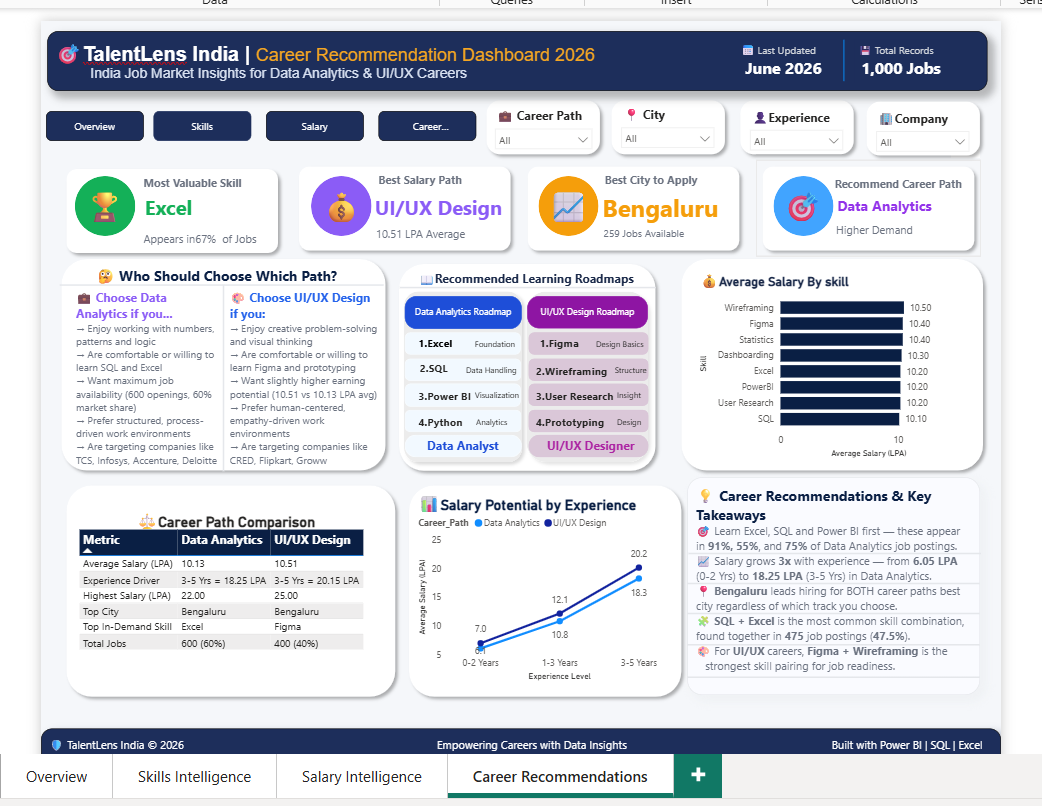

The dashboard page shown, as its layout file describes it:
{"tool":"powerbi","page":{"name":"Career Recommendations","canvas":[1280,1000],"ordinal":3},"visuals":[{"type":"textbox","box":[7.5,12.5,1253.8,80],"z":0,"group":"g7"},{"type":"actionButton","box":[7,120,130,40],"z":0},{"type":"shape","box":[335,185,300,130],"z":0,"group":"g10"},{"type":"shape","box":[952.5,185,300,130],"z":0,"group":"g11"},{"type":"shape","box":[640,185.6,300,130],"z":0,"group":"g12"},{"type":"shape","box":[25.3,188.1,300,130],"z":0,"group":"g13"},{"type":"actionButton","box":[150,120,130,40],"z":1000},{"type":"actionButton","box":[300,120,130,40],"z":2000},{"type":"group","id":"g1","title":"Group 2","box":[585,96,169,90],"z":3000},{"type":"shape","box":[1013.1,24.7,114.3,55.6],"z":4000,"group":"g7"},{"type":"group","id":"g2","title":"Group 3","box":[751.1,95.9,169.2,90],"z":4000},{"type":"textbox","box":[445,196.2,152.5,37.5],"z":4000,"group":"g10"},{"type":"textbox","box":[746.9,197.8,173.3,35.6],"z":4000,"group":"g12"},{"type":"textbox","box":[132,199,169,31],"z":4000,"group":"g13"},{"type":"textbox","box":[1053,202.3,187.3,30.9],"z":4000,"group":"g11"},{"type":"textbox","box":[928.2,24.7,132.8,57.8],"z":5000,"group":"g7"},{"type":"group","id":"g3","title":"Group 4","box":[924,96,169,90],"z":5000},{"type":"textbox","box":[1084.9,24.7,125.2,57.8],"z":6000,"group":"g7"},{"type":"group","id":"g4","title":"Group 6","box":[25.3,188.1,300,130],"z":6000},{"type":"group","id":"g5","title":"Group 6","box":[335,185,300,130],"z":7000},{"type":"group","id":"g6","title":"Group 6","box":[640,185.6,300,130],"z":8000},{"type":"textbox","box":[0,942.5,1280,47.5],"z":9000},{"type":"group","id":"g7","title":"Group 10","box":[7.5,12.5,1253.8,80],"z":10000},{"type":"textbox","box":[133.6,225.5,111.8,50],"z":11000},{"type":"textbox","box":[743,221,190,54],"z":12000},{"type":"shape","box":[585,96,169.2,90],"z":13000,"group":"g1"},{"type":"shape","box":[17.7,308.3,450,300],"z":13000},{"type":"slicer","title":"Career Path","fields":{"Values":["talentlens_1000.Career_Path"]},"box":[595.4,109.9,150,65.6],"z":14000,"group":"g1"},{"type":"shape","box":[467.9,315,360,293.6],"z":14000},{"type":"shape","box":[751.1,95.9,169.2,90],"z":15000,"group":"g2"},{"type":"shape","box":[845,307.5,420,300],"z":15000},{"type":"slicer","title":"Career Path","fields":{"Values":["talentlens_1000.Location"]},"box":[763.4,107.8,144.4,65.6],"z":16000,"group":"g2"},{"type":"group","id":"g8","title":"Group 6","box":[952.5,185,300,130],"z":16000},{"type":"shape","box":[924,96,169.2,90],"z":17000,"group":"g3"},{"type":"group","id":"g9","title":"Group 4","box":[1091.7,98.3,169.2,90],"z":17000},{"type":"shape","box":[1091.7,98.3,169.2,90],"z":17000,"group":"g9"},{"type":"textbox","box":[1054.4,263.8,186.2,31.2],"z":17001,"group":"g11"},{"type":"textbox","box":[744.5,269.6,187.3,34.5],"z":17001,"group":"g12"},{"type":"textbox","box":[131.4,275.6,173.1,30],"z":17001,"group":"g13"},{"type":"slicer","title":"Career Path","fields":{"Values":["talentlens_1000.Experience"]},"box":[936.2,110.8,144.4,65.6],"z":18000,"group":"g3"},{"type":"slicer","title":"Career Path","fields":{"Values":["talentlens_1000.Company"]},"box":[1103.9,113.1,144.4,65.6],"z":18000,"group":"g9"},{"type":"textbox","box":[1056.4,229.1,172.7,39.1],"z":18000},{"type":"clusteredBarChart","title":"💰Average Salary By skill","fields":{"Category":["SkillSalary.Skill"],"Y":["Avg(SkillSalary.Avg_Salary)"]},"box":[872.5,333.8,360,253.8],"z":19000},{"type":"textbox","box":[1047.3,224.8,196.2,46.2],"z":19001,"group":"g8"},{"type":"textbox","box":[862,608.7,390.7,290],"z":20000},{"type":"shape","box":[481.7,610.6,381.1,300],"z":21000},{"type":"group","id":"g10","title":"Group 7","box":[335,185,300,130],"z":21001,"group":"g5"},{"type":"group","id":"g11","title":"Group 7","box":[952.5,185,300,130],"z":21001,"group":"g8"},{"type":"group","id":"g12","title":"Group 7","box":[640,185.6,300,130],"z":21001,"group":"g6"},{"type":"group","id":"g13","title":"Group 7","box":[25.3,188.1,300,130],"z":21001,"group":"g4"},{"type":"actionButton","box":[450,120,130,40],"z":22000},{"type":"shape","box":[360,206.4,80.9,80],"z":23000},{"type":"shape","box":[662.7,206.4,80,80],"z":24000},{"type":"shape","box":[44.5,206.4,80.9,80],"z":25000},{"type":"shape","box":[976.4,206.4,80,80],"z":26000},{"type":"shape","box":[475.5,350.9,175.5,245.5],"z":27000},{"type":"shape","box":[639.1,350.9,180,245.5],"z":28000},{"type":"textbox","box":[485.2,366.1,156.1,43.9],"z":29000},{"type":"shape","box":[485.2,415.2,154.8,30],"z":30000},{"type":"shape","box":[485.2,450,155.2,30],"z":31000},{"type":"shape","box":[485.2,483.7,154.8,31.1],"z":32000},{"type":"shape","box":[485.2,518.9,155.6,30],"z":33000},{"type":"shape","box":[485,551.2,156.2,30],"z":34000},{"type":"textbox","box":[498.8,415,71.2,28.8],"z":35000},{"type":"textbox","box":[573.9,415,73.3,29.4],"z":36000},{"type":"textbox","box":[500,448.8,56.2,31.2],"z":37000},{"type":"textbox","box":[498.1,485.2,82.6,29.3],"z":38000},{"type":"textbox","box":[498.1,520.4,75.6,30.4],"z":39000},{"type":"textbox","box":[562.2,449.4,85,31.1],"z":40000},{"type":"textbox","box":[572.6,484.1,84.1,31.1],"z":41000},{"type":"textbox","box":[574.8,520.4,59.6,28.1],"z":42000},{"type":"textbox","box":[500,549.4,125,33.1],"z":43000},{"type":"shape","box":[649.4,414.4,160,30],"z":44000},{"type":"shape","box":[649.4,450,160,30],"z":45000},{"type":"shape","box":[649.4,483.8,160,30],"z":46000},{"type":"shape","box":[649.4,518.8,160,30],"z":47000},{"type":"shape","box":[649.4,551.2,160,30],"z":48000},{"type":"textbox","box":[647.8,366.7,161.1,43.3],"z":49000},{"type":"textbox","box":[655.2,485.2,130,28.5],"z":50000},{"type":"textbox","box":[655.2,519.6,114.8,28.9],"z":51000},{"type":"textbox","box":[657.5,550,149.4,39.4],"z":52000},{"type":"textbox","box":[655.2,451.1,114.8,28.9],"z":53000},{"type":"textbox","box":[659.6,415.2,66.3,28.5],"z":54000},{"type":"textbox","box":[735.5,415.5,78,29.5],"z":55000},{"type":"textbox","box":[471.8,327.3,350,36.4],"z":56000},{"type":"textbox","box":[760,450.8,63.1,29.2],"z":57000},{"type":"textbox","box":[765.6,488.9,62.6,21.5],"z":58000},{"type":"textbox","box":[760.5,519.5,49.1,30],"z":59000},{"type":"shape","box":[25,610,456.2,300],"z":60000},{"type":"shape","box":[861.8,864.5,390,20],"z":61000},{"type":"shape","box":[861.5,821.5,390,20],"z":62000},{"type":"shape","box":[861.5,779.2,390,20],"z":63000},{"type":"shape","box":[862.3,740.8,390,20],"z":64000},{"type":"shape","box":[863.1,700,390,20],"z":65000},{"type":"lineChart","title":"📊Salary Potential by Experience","fields":{"Category":["SalaryByExp.Experience"],"Series":["SalaryByExp.Career_Path"],"Y":["Avg(SalaryByExp.Avg_Salary)"]},"box":[498.8,628.8,346.2,256.2],"z":66000},{"type":"tableEx","title":"⚖️Career Path Comparison","fields":{"Values":["CareerComparison.Metric","CareerComparison.Data Analytics","CareerComparison.UI/UX Design"]},"box":[45,651.2,402.5,206.2],"z":67000},{"type":"textbox","box":[906.2,418.8,77.5,40],"z":68000},{"type":"textbox","box":[440,225,185,50],"z":69000},{"type":"textbox","box":[441.2,267.5,157.5,37.5],"z":70000},{"type":"textbox","box":[41.2,351.2,201.2,272.5],"z":71000},{"type":"textbox","box":[246.2,351.2,210,265],"z":72000},{"type":"textbox","box":[68.8,321.2,347.5,60],"z":73000},{"type":"shape","box":[227.5,351.2,30,248.8],"z":74000},{"type":"shape","box":[25,339.2,431.7,24.2],"z":75000},{"type":"shape","box":[477.5,345,341.7,20.8],"z":76000}]}

Visuals, with their boxes on the page's 1280x1000 design canvas (x1, y1, x2, y2). These are canvas units, not pixel positions in the 1042x806 screenshot, which may show the page scaled, cropped or inside an application window:
textbox: (8,12,1261,92)
actionButton: (7,120,137,160)
shape: (335,185,635,315)
shape: (952,185,1252,315)
shape: (640,186,940,316)
shape: (25,188,325,318)
actionButton: (150,120,280,160)
actionButton: (300,120,430,160)
"Group 2" group: (585,96,754,186)
shape: (1013,25,1127,80)
"Group 3" group: (751,96,920,186)
textbox: (445,196,598,234)
textbox: (747,198,920,233)
textbox: (132,199,301,230)
textbox: (1053,202,1240,233)
textbox: (928,25,1061,82)
"Group 4" group: (924,96,1093,186)
textbox: (1085,25,1210,82)
"Group 6" group: (25,188,325,318)
"Group 6" group: (335,185,635,315)
"Group 6" group: (640,186,940,316)
textbox: (0,942,1280,990)
"Group 10" group: (8,12,1261,92)
textbox: (134,226,245,276)
textbox: (743,221,933,275)
shape: (585,96,754,186)
shape: (18,308,468,608)
"Career Path" slicer: (595,110,745,176)
shape: (468,315,828,609)
shape: (751,96,920,186)
shape: (845,308,1265,608)
"Career Path" slicer: (763,108,908,173)
"Group 6" group: (952,185,1252,315)
shape: (924,96,1093,186)
"Group 4" group: (1092,98,1261,188)
shape: (1092,98,1261,188)
textbox: (1054,264,1241,295)
textbox: (744,270,932,304)
textbox: (131,276,304,306)
"Career Path" slicer: (936,111,1081,176)
"Career Path" slicer: (1104,113,1248,179)
textbox: (1056,229,1229,268)
"💰Average Salary By skill" clusteredBarChart: (872,334,1232,588)
textbox: (1047,225,1244,271)
textbox: (862,609,1253,899)
shape: (482,611,863,911)
"Group 7" group: (335,185,635,315)
"Group 7" group: (952,185,1252,315)
"Group 7" group: (640,186,940,316)
"Group 7" group: (25,188,325,318)
actionButton: (450,120,580,160)
shape: (360,206,441,286)
shape: (663,206,743,286)
shape: (44,206,125,286)
shape: (976,206,1056,286)
shape: (476,351,651,596)
shape: (639,351,819,596)
textbox: (485,366,641,410)
shape: (485,415,640,445)
shape: (485,450,640,480)
shape: (485,484,640,515)
shape: (485,519,641,549)
shape: (485,551,641,581)
textbox: (499,415,570,444)
textbox: (574,415,647,444)
textbox: (500,449,556,480)
textbox: (498,485,581,514)
textbox: (498,520,574,551)
textbox: (562,449,647,480)
textbox: (573,484,657,515)
textbox: (575,520,634,548)
textbox: (500,549,625,582)
shape: (649,414,809,444)
shape: (649,450,809,480)
shape: (649,484,809,514)
shape: (649,519,809,549)
shape: (649,551,809,581)
textbox: (648,367,809,410)
textbox: (655,485,785,514)
textbox: (655,520,770,548)
textbox: (658,550,807,589)
textbox: (655,451,770,480)
textbox: (660,415,726,444)
textbox: (736,416,814,445)
textbox: (472,327,822,364)
textbox: (760,451,823,480)
textbox: (766,489,828,510)
textbox: (760,520,810,550)
shape: (25,610,481,910)
shape: (862,864,1252,884)
shape: (862,822,1252,842)
shape: (862,779,1252,799)
shape: (862,741,1252,761)
shape: (863,700,1253,720)
"📊Salary Potential by Experience" lineChart: (499,629,845,885)
"⚖️Career Path Comparison" tableEx: (45,651,448,857)
textbox: (906,419,984,459)
textbox: (440,225,625,275)
textbox: (441,268,599,305)
textbox: (41,351,242,624)
textbox: (246,351,456,616)
textbox: (69,321,416,381)
shape: (228,351,258,600)
shape: (25,339,457,363)
shape: (478,345,819,366)
